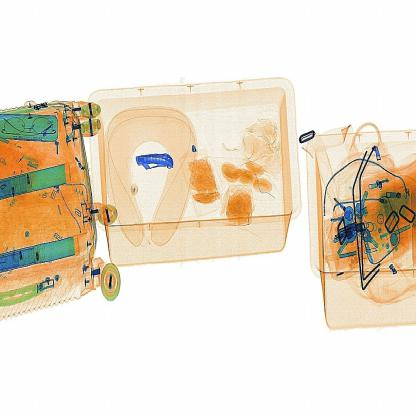knife: (127, 148, 180, 175)
